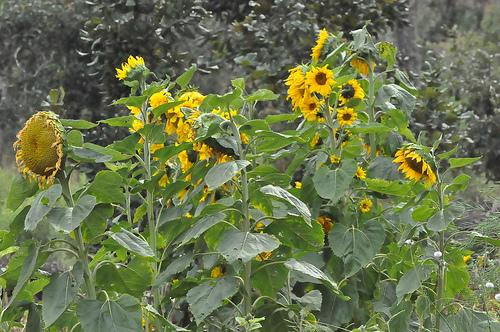sunflower: (14, 111, 67, 189), (393, 148, 437, 190), (306, 64, 334, 97), (297, 95, 322, 119), (338, 81, 365, 102), (336, 107, 358, 127)
